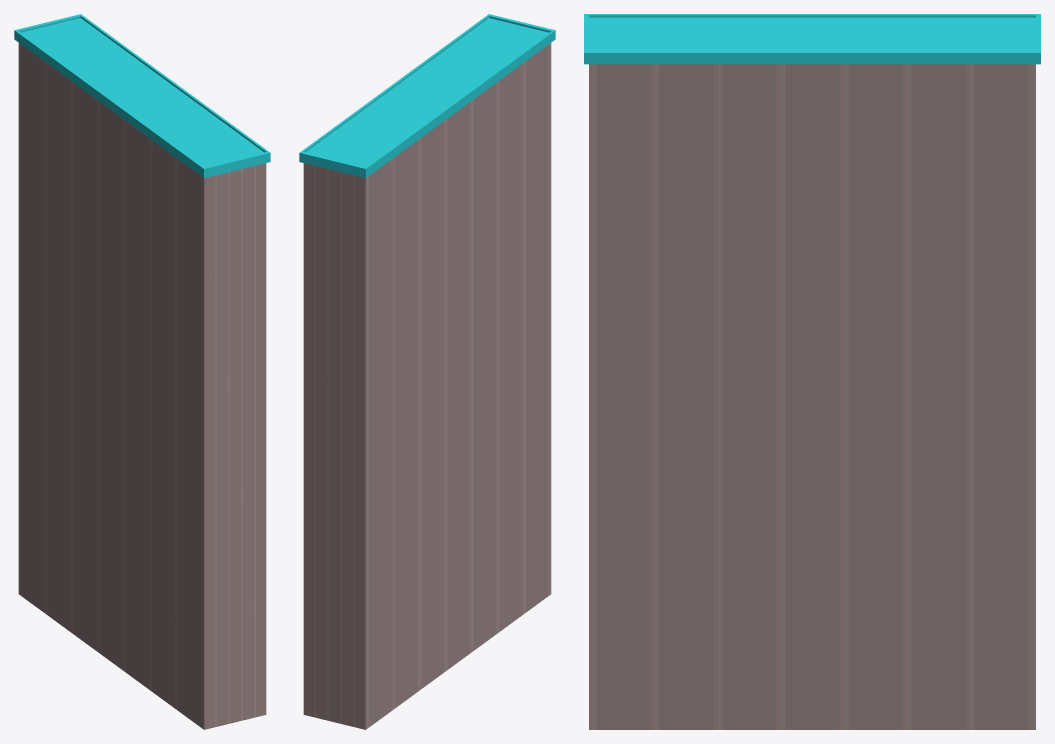
File: Building 14 .fbx
3 renders of one model, left to right at view 1: azimuth 30°, elevation 25°; view 2: azimuth 150°, elevation 25°; view 3: azimuth 270°, elevation 25°, orthographic. The views are drawn at different scales.
Parts seen in each view (by area): view 1: Building 14; view 2: Building 14; view 3: Building 14.
Part boxes in pixels (left/top/right/bottom): Building 14: left=14, top=14, right=270, bottom=729; Building 14: left=299, top=14, right=555, bottom=729; Building 14: left=584, top=14, right=1040, bottom=729.
Bounding box in the file's own units: 1243 × 10037 × 6129.
